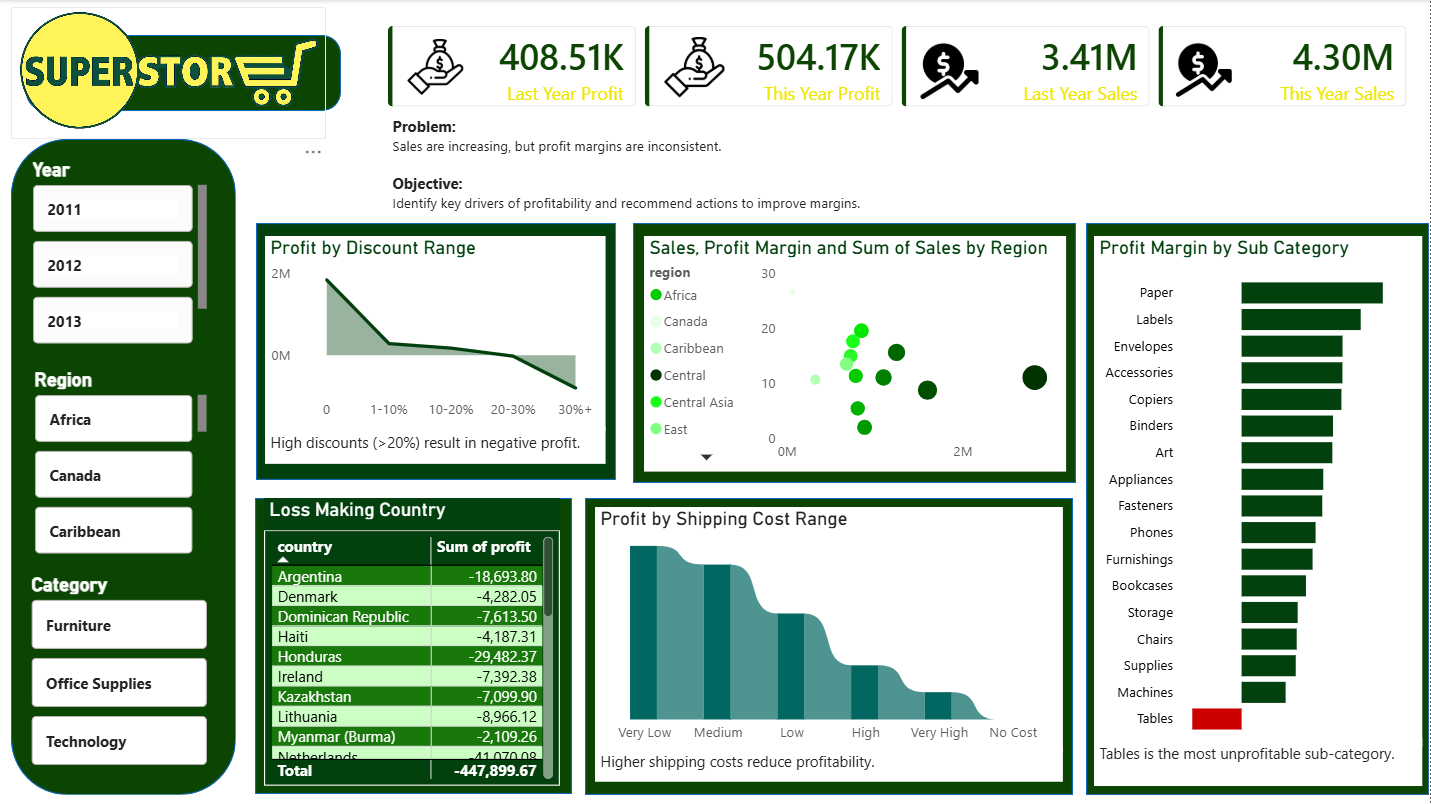

What the dashboard file says about the page in this screenshot:
{"tool":"powerbi","page":{"name":"Profitability Analysis","canvas":[1280,720],"ordinal":1},"visuals":[{"type":"shape","box":[23.3,31.3,282.1,68.1],"z":0},{"type":"image","box":[9.9,6.3,282.1,118.2],"z":1000},{"type":"shape","box":[229.3,199.7,322.4,230.1],"z":2000},{"type":"shape","box":[9.9,124.5,201.5,587.5],"z":3000},{"type":"shape","box":[566.9,199.7,396.7,232.8],"z":4000},{"type":"shape","box":[972.5,199.7,307.2,512.2],"z":5000},{"type":"shape","box":[523.9,446,437,266],"z":6000},{"type":"advancedSlicerVisual","title":"Year ","fields":{"Values":["super_store_analysis.year (bins)"]},"box":[24.2,141.5,166.6,171.9],"z":7000},{"type":"advancedSlicerVisual","title":"Region","fields":{"Values":["super_store_analysis.region"]},"box":[26,329.6,164.8,171.9],"z":8000},{"type":"advancedSlicerVisual","title":"Category","fields":{"Values":["super_store_analysis.category"]},"box":[23.3,513.1,167.5,177.3],"z":9000},{"type":"shape","box":[228.4,446,283.9,265.1],"z":10000},{"type":"areaChart","title":"Profit by Discount Range","fields":{"Category":["super_store_analysis.discount_bucket"],"Y":["Sum(super_store_analysis.profit)"]},"box":[237.3,211.3,305.4,173.7],"z":11000},{"type":"ribbonChart","title":"Profit by Shipping Cost Range","fields":{"Category":["super_store_analysis.shipping_cost_bucket"],"Y":["Sum(super_store_analysis.profit)"]},"box":[532.8,454,419.1,220.3],"z":12000},{"type":"barChart","title":"Profit Margin by Sub Category","fields":{"Category":["super_store_analysis.sub_category"],"Y":["super_store_analysis.Profit margin"]},"box":[979.7,211.3,293.7,456.7],"z":13000},{"type":"tableEx","fields":{"Values":["super_store_analysis.country","Sum(super_store_analysis.profit)"]},"box":[236.4,474.6,265.1,229.3],"z":14000},{"type":"textbox","title":"Loss Making Country","box":[236.4,446,265.1,28.7],"z":15000},{"type":"scatterChart","title":" Sales, Profit Margin and Sum of Sales by Region","fields":{"X":["super_store_analysis.Total Sales"],"Y":["super_store_analysis.Profit margin"],"Size":["Sum(super_store_analysis.sales)"],"Series":["super_store_analysis.region"]},"box":[576.7,211.3,377.9,211.3],"z":16000},{"type":"cardVisual","fields":{"Data":["super_store_analysis.Last Year Profit","super_store_analysis.This Year Profit","super_store_analysis.Last Year Sales","super_store_analysis.This Year Sales"]},"box":[330.4,6.3,948.4,106.6],"z":17000},{"type":"image","box":[820.3,36.7,60,51.9],"z":18000},{"type":"image","box":[1045.1,36.7,65.4,50.1],"z":19000},{"type":"image","box":[584.8,33.1,73.4,53.7],"z":20000},{"type":"image","box":[352.8,34.9,74.3,50.1],"z":21000},{"type":"textbox","box":[346.6,99.4,910.7,100.3],"z":22000},{"type":"textbox","box":[237.3,382.4,305.4,33.1],"z":23000},{"type":"textbox","box":[979.7,660.9,293.7,43],"z":24000},{"type":"textbox","box":[532.8,668.1,419.1,32.2],"z":24001}]}

Visuals, with their boxes in screenshot pixels (x1, y1, x2, y2), scaled from the page's 1280x720 canvas onto the 1431x804 screenshot:
shape: [left=26, top=35, right=341, bottom=111]
image: [left=11, top=7, right=326, bottom=139]
shape: [left=256, top=223, right=617, bottom=480]
shape: [left=11, top=139, right=236, bottom=795]
shape: [left=634, top=223, right=1077, bottom=483]
shape: [left=1087, top=223, right=1430, bottom=795]
shape: [left=586, top=498, right=1074, bottom=795]
"Year " advancedSlicerVisual: [left=27, top=158, right=213, bottom=350]
"Region" advancedSlicerVisual: [left=29, top=368, right=213, bottom=560]
"Category" advancedSlicerVisual: [left=26, top=573, right=213, bottom=771]
shape: [left=255, top=498, right=573, bottom=794]
"Profit by Discount Range" areaChart: [left=265, top=236, right=607, bottom=430]
"Profit by Shipping Cost Range" ribbonChart: [left=596, top=507, right=1064, bottom=753]
"Profit Margin by Sub Category" barChart: [left=1095, top=236, right=1424, bottom=746]
tableEx - super_store_analysis.country x Sum(super_store_analysis.profit): [left=264, top=530, right=561, bottom=786]
"Loss Making Country" textbox: [left=264, top=498, right=561, bottom=530]
" Sales, Profit Margin and Sum of Sales by Region" scatterChart: [left=645, top=236, right=1067, bottom=472]
cardVisual - super_store_analysis.Last Year Profit x super_store_analysis.This Year Profit: [left=369, top=7, right=1430, bottom=126]
image: [left=917, top=41, right=984, bottom=99]
image: [left=1168, top=41, right=1242, bottom=97]
image: [left=654, top=37, right=736, bottom=97]
image: [left=394, top=39, right=477, bottom=95]
textbox: [left=387, top=111, right=1406, bottom=223]
textbox: [left=265, top=427, right=607, bottom=464]
textbox: [left=1095, top=738, right=1424, bottom=786]
textbox: [left=596, top=746, right=1064, bottom=782]
